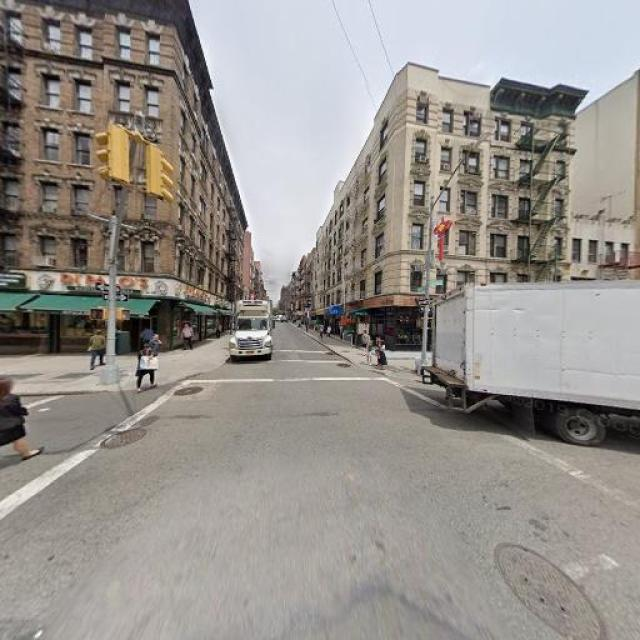Building: (1, 1, 243, 352), (317, 65, 484, 353), (488, 93, 567, 348)
